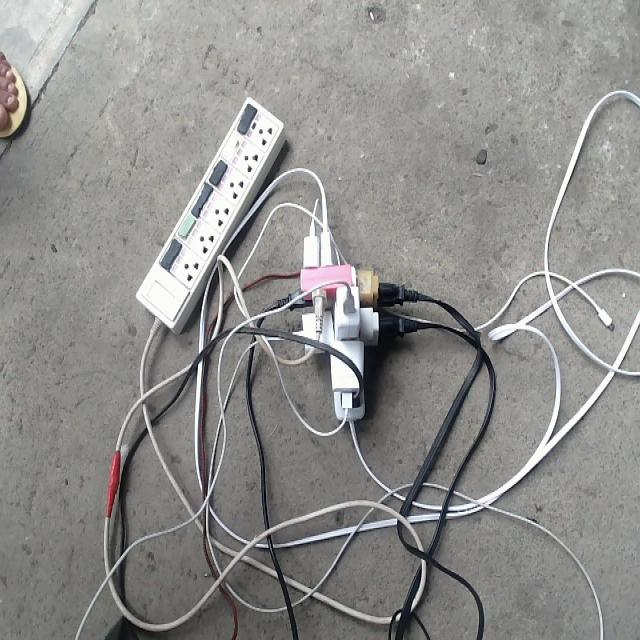-: (290, 231, 392, 421)
